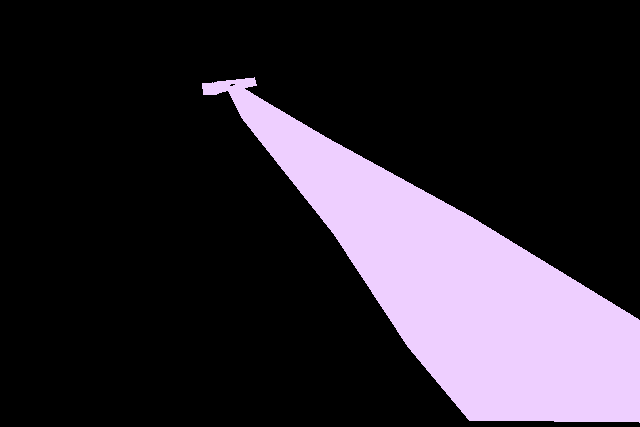Train: (226, 84, 640, 422), (211, 77, 257, 95), (202, 82, 212, 95)
